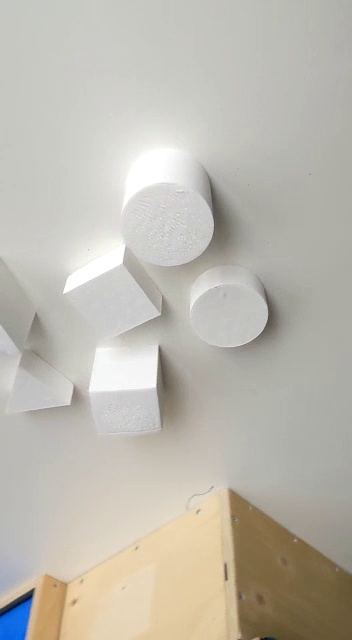Clyinder_short: (188, 264, 271, 350)
Cube: (86, 343, 169, 440)
Cube_short: (60, 240, 166, 346)
Cylinder: (117, 146, 215, 270)
Triangle: (1, 258, 42, 360)
Triangle_short: (3, 349, 77, 423)
